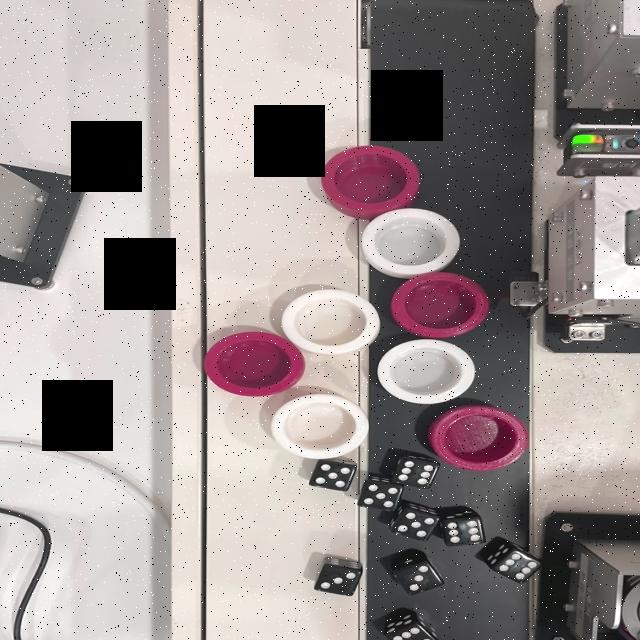DICE3: (396, 564, 444, 594), (319, 570, 357, 592)
DICE5: (310, 463, 360, 491), (395, 512, 437, 544), (361, 482, 399, 509)
DICE6: (493, 550, 541, 588), (398, 457, 437, 485), (444, 520, 484, 546), (391, 622, 441, 640)
RedChip: (202, 332, 306, 398), (321, 145, 421, 213), (390, 274, 490, 338), (432, 407, 528, 467)
WhiteChip: (280, 287, 382, 357), (270, 393, 372, 458), (361, 209, 461, 275), (376, 341, 480, 403)
